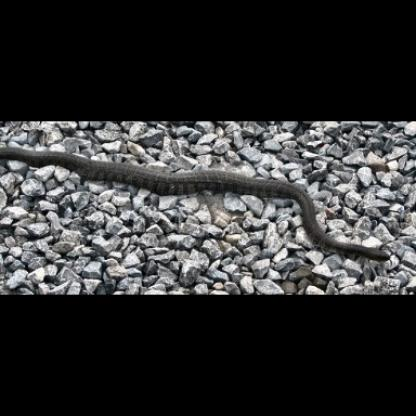Snake: (4, 114, 414, 245)
